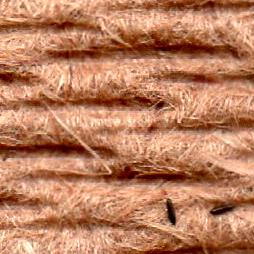egg: (167, 198, 174, 224), (212, 206, 234, 214)
